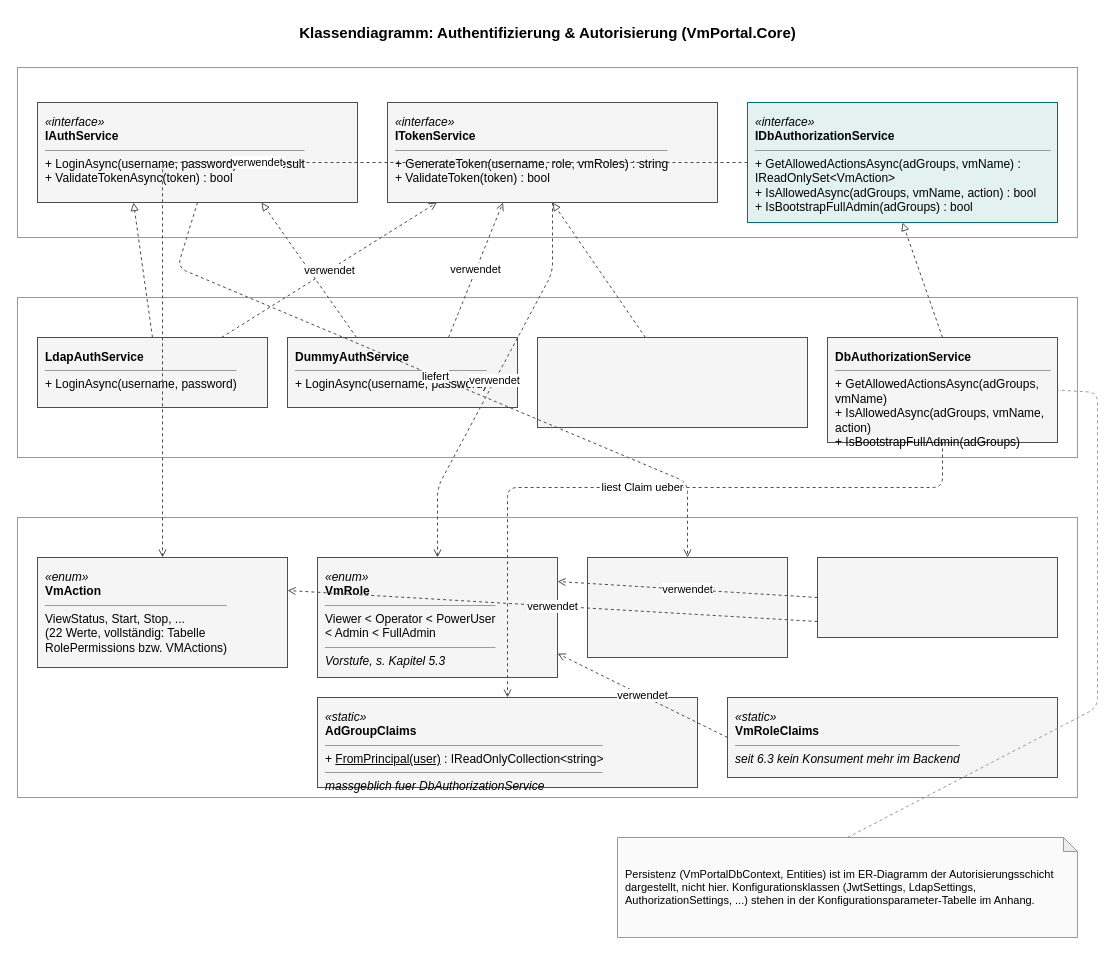
Image size: 1116x955. Some labels were removed from this diagram. The box of each missing label's shape, as (x1, y1, x2, y2) in pixels:
Implementierungen: (16, 296, 1078, 458)
Interfaces: (16, 66, 1078, 238)
JwtTokenService + GenerateToken(username, role, vmRoles) + ValidateToken(token): (536, 336, 808, 428)
RBAC-Modelle & Hilfsklassen: (16, 516, 1078, 798)
«record» AuthResult + Success : bool + Token : string?: (586, 556, 788, 658)
«static» RolePermissions + IsAllowed(role, action) : bool: (816, 556, 1058, 638)
